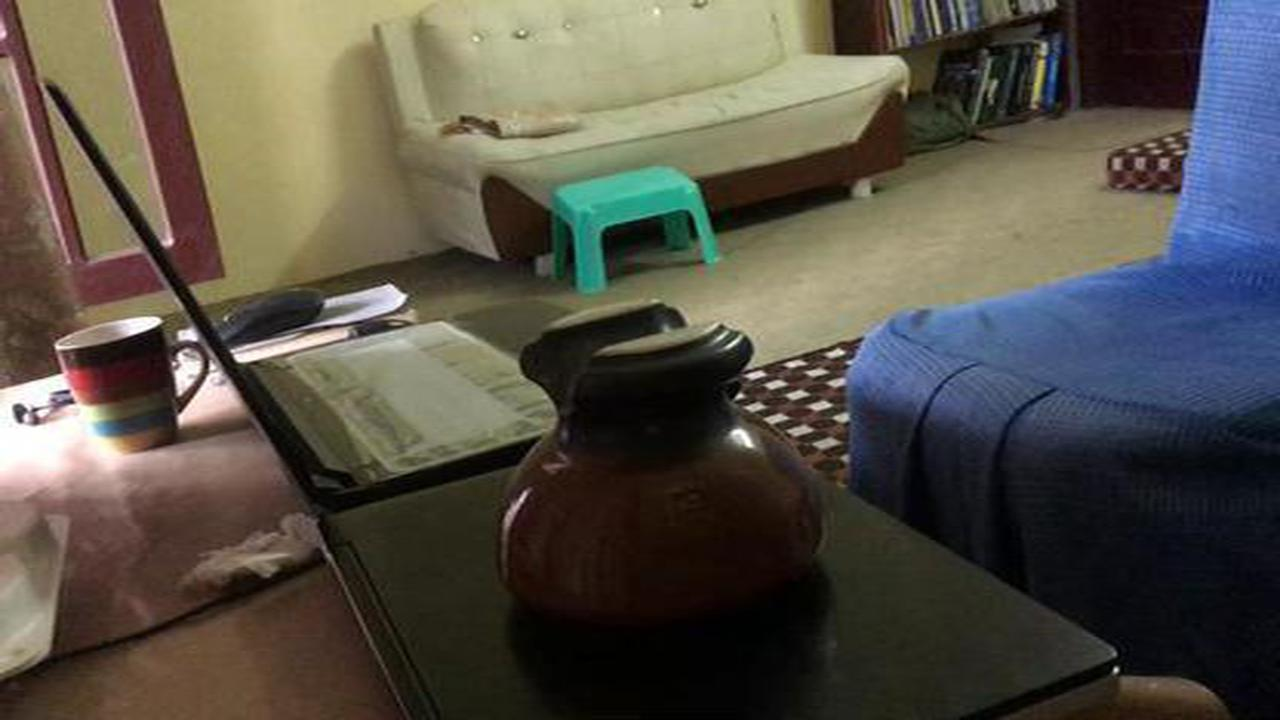insulator_pin: (474, 291, 853, 651)
